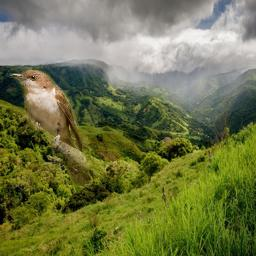Cuckoo: (8, 67, 92, 188)
